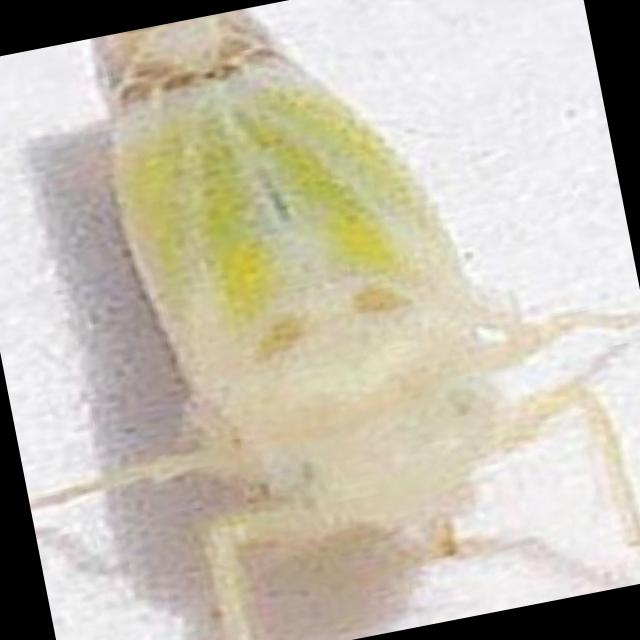green-leafhopper: (31, 0, 614, 633)
